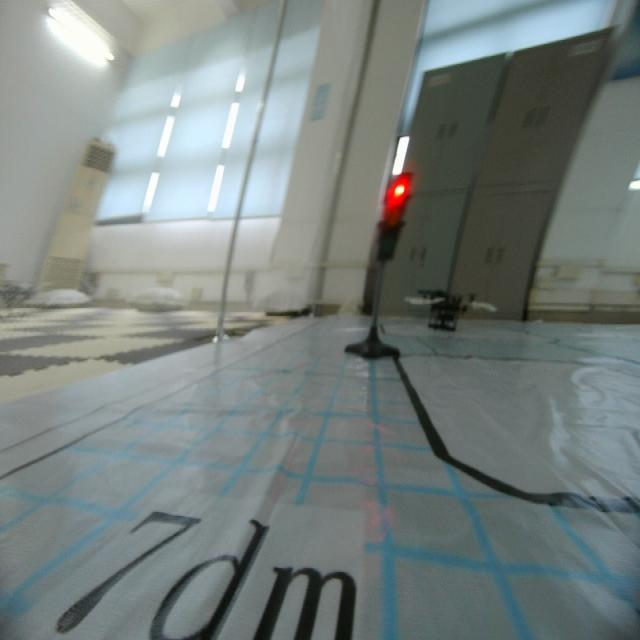red: (382, 172, 411, 263)
